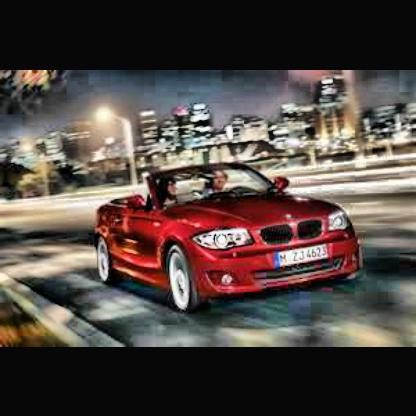BMW 1 Series Convertible 2012: (96, 162, 367, 311)
